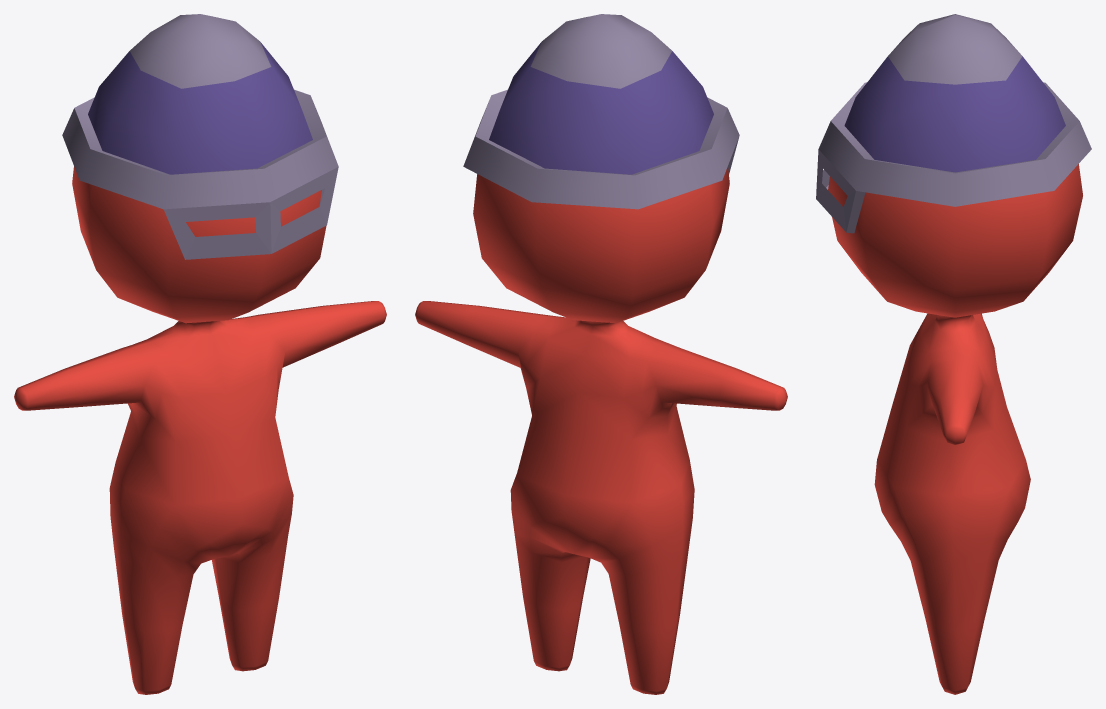
File: boss.fbx
3 renders of one model, left to right at view 1: azimuth 30°, elevation 25°; view 2: azimuth 150°, elevation 25°; view 3: azimuth 270°, elevation 25°, orthographic. The views are drawn at different scales.
Parts seen in each view (by area): view 1: character-boss, minfer; view 2: character-boss, minfer; view 3: character-boss, minfer.
Part boxes in pixels (<box>): character-boss: <box>14,166,386,694</box>; minfer: <box>62,14,338,259</box>; character-boss: <box>415,166,787,694</box>; minfer: <box>463,14,739,209</box>; character-boss: <box>828,164,1082,694</box>; minfer: <box>816,14,1091,233</box>.
Size of the model in its own units: 0.7926 by 1.37 by 0.5248.
